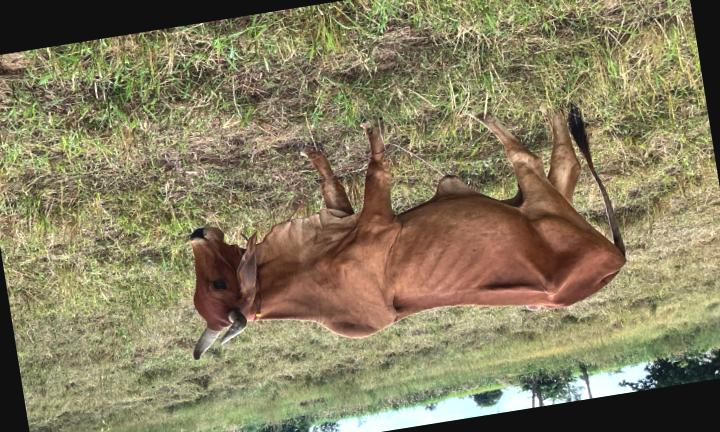Brahman: (191, 109, 626, 360)
